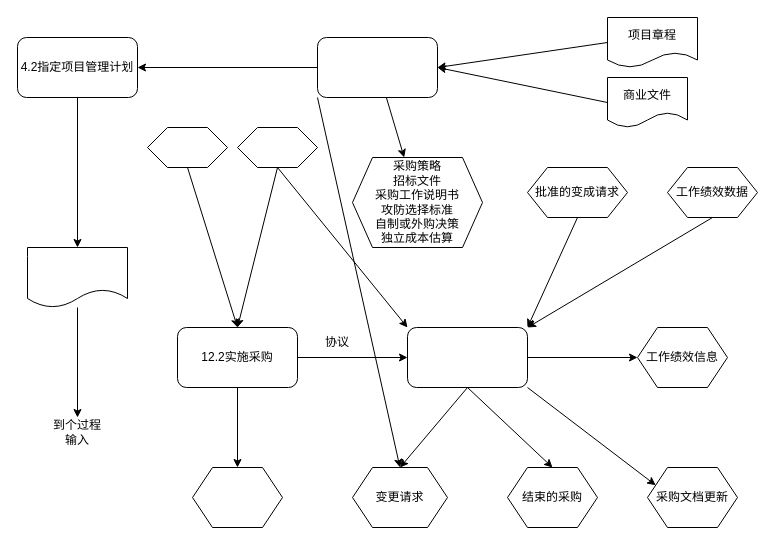
The diagram is 775 pixels wide and 545 high, and some of its shapes have lost their labels. The shapes that lost their labels are listed below. From the top down, each one's centre as x and y in pixels, then its label:
At point 377,67: "12.1规划采购管理".
At point 187,147: "卖方建议书".
At point 277,147: "采购文档".
At point 77,277: "项目管理计划".
At point 467,357: "12.3控制采购".
At point 237,497: "选定的卖方".
